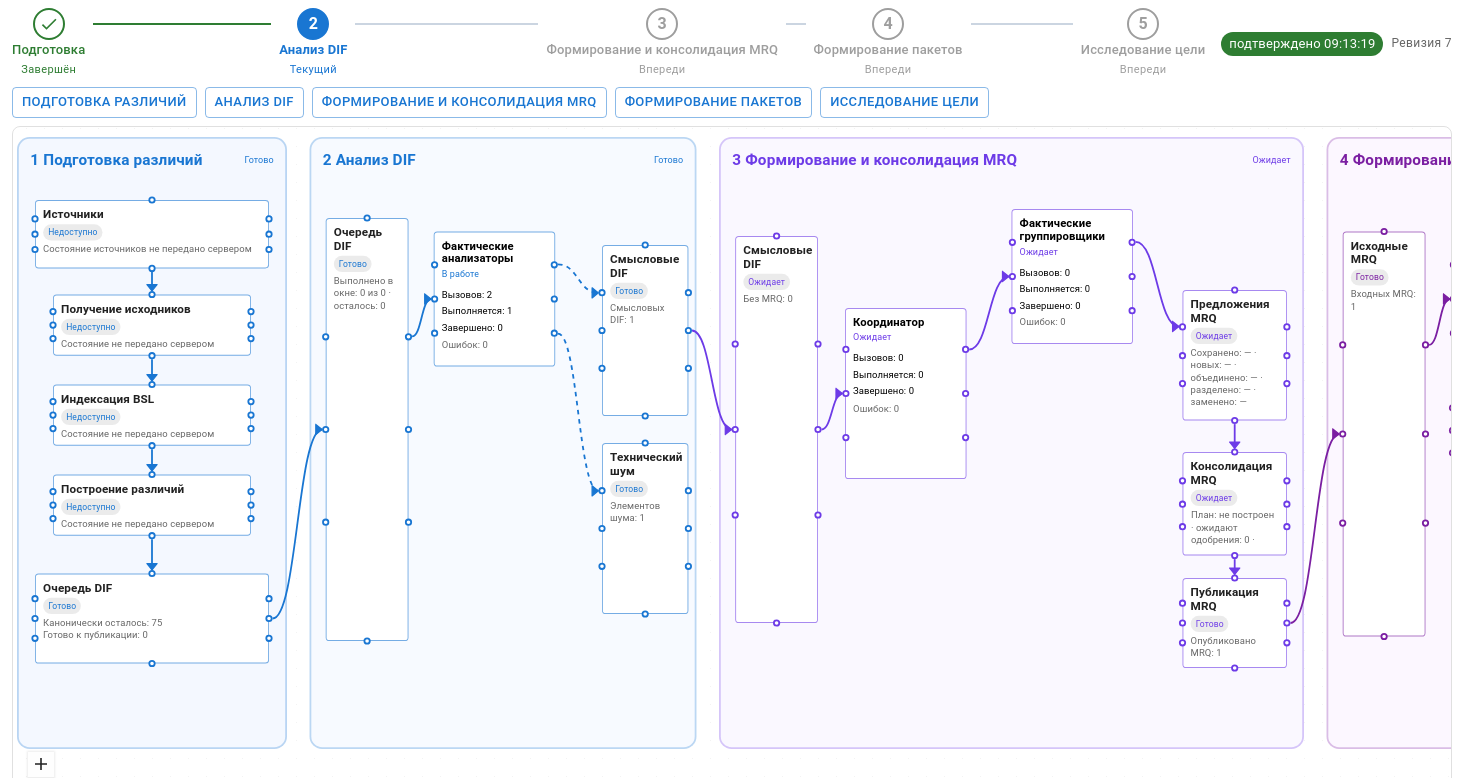
Test: analyze-dif: запуск доступно из интерактивного узла new и отправляет точный POST
Click the button with class "react-flow__node" showing "2 Анализ DIF Готово". click: (503, 443)
box: x1=310 y1=137 x2=696 y2=749
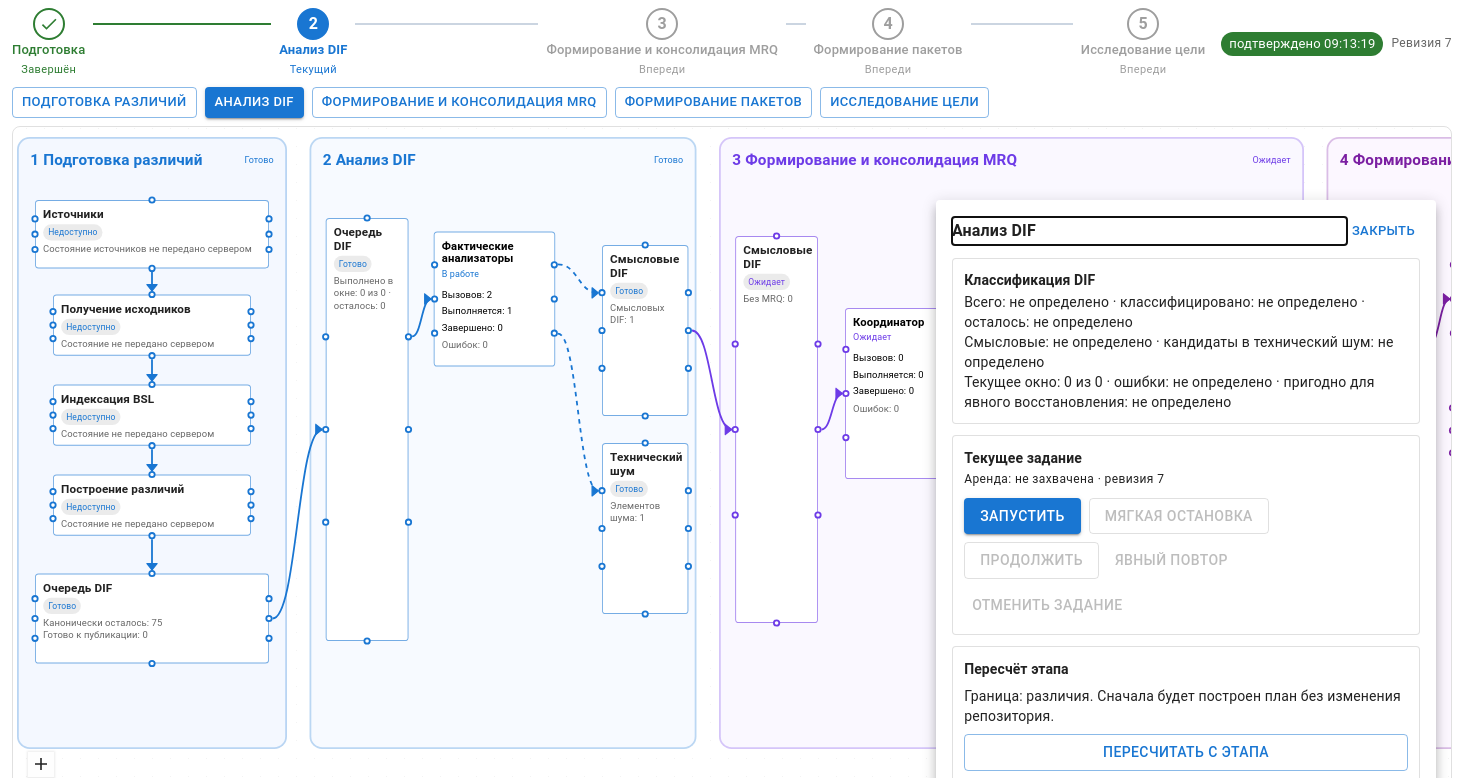
Expected: the element "Текущее задание" is shown, x1=952 y1=436 x2=1420 y2=635
Expected: the button "Запустить" is enabled
Click the button "Запустить". click: (1022, 516)
box: x1=964 y1=498 x2=1081 y2=534
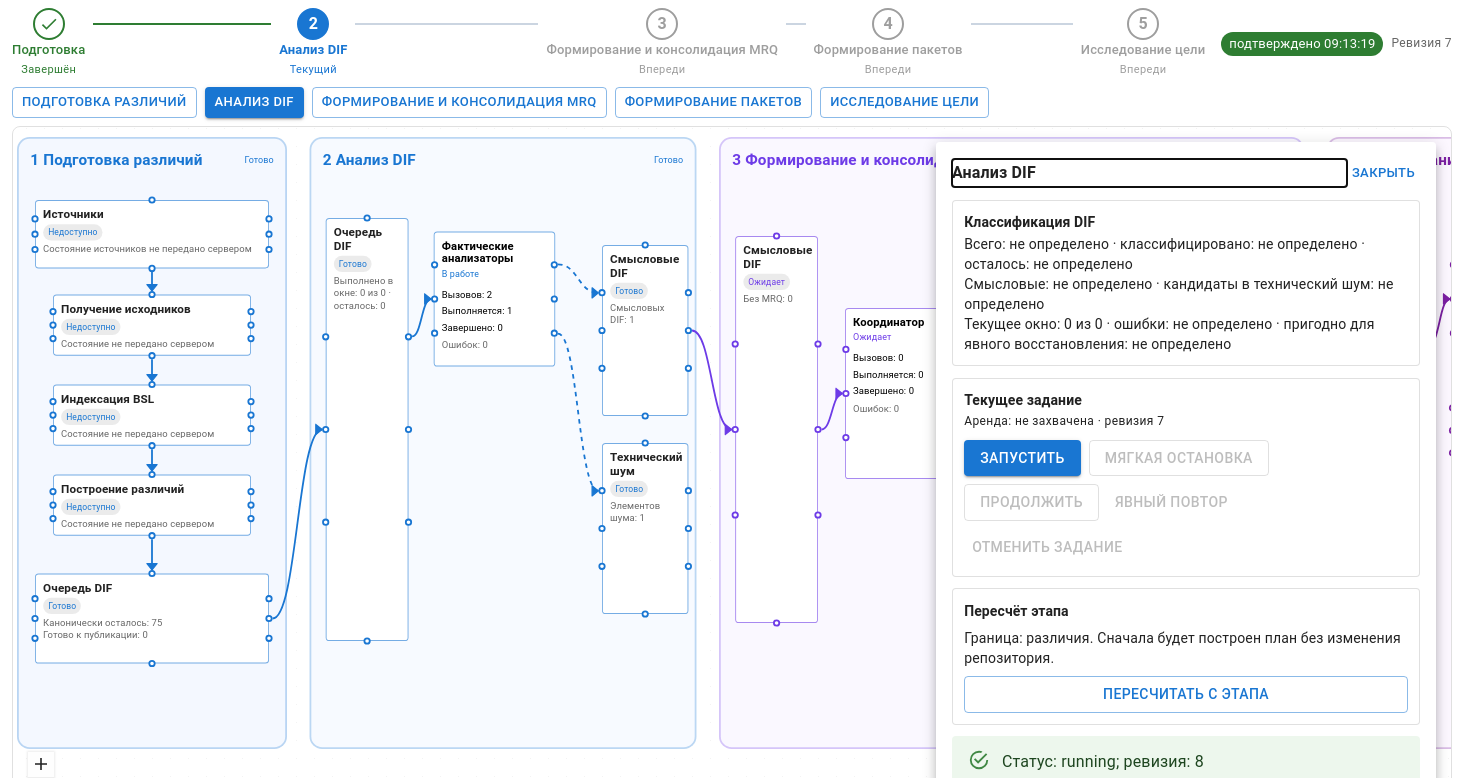
Expected: the text "Ревизия 7" is shown, x1=1391 y1=34 x2=1452 y2=54
Expected: the text "Статус: running; ревизия: 8" is shown, x1=1002 y1=750 x2=1204 y2=774
